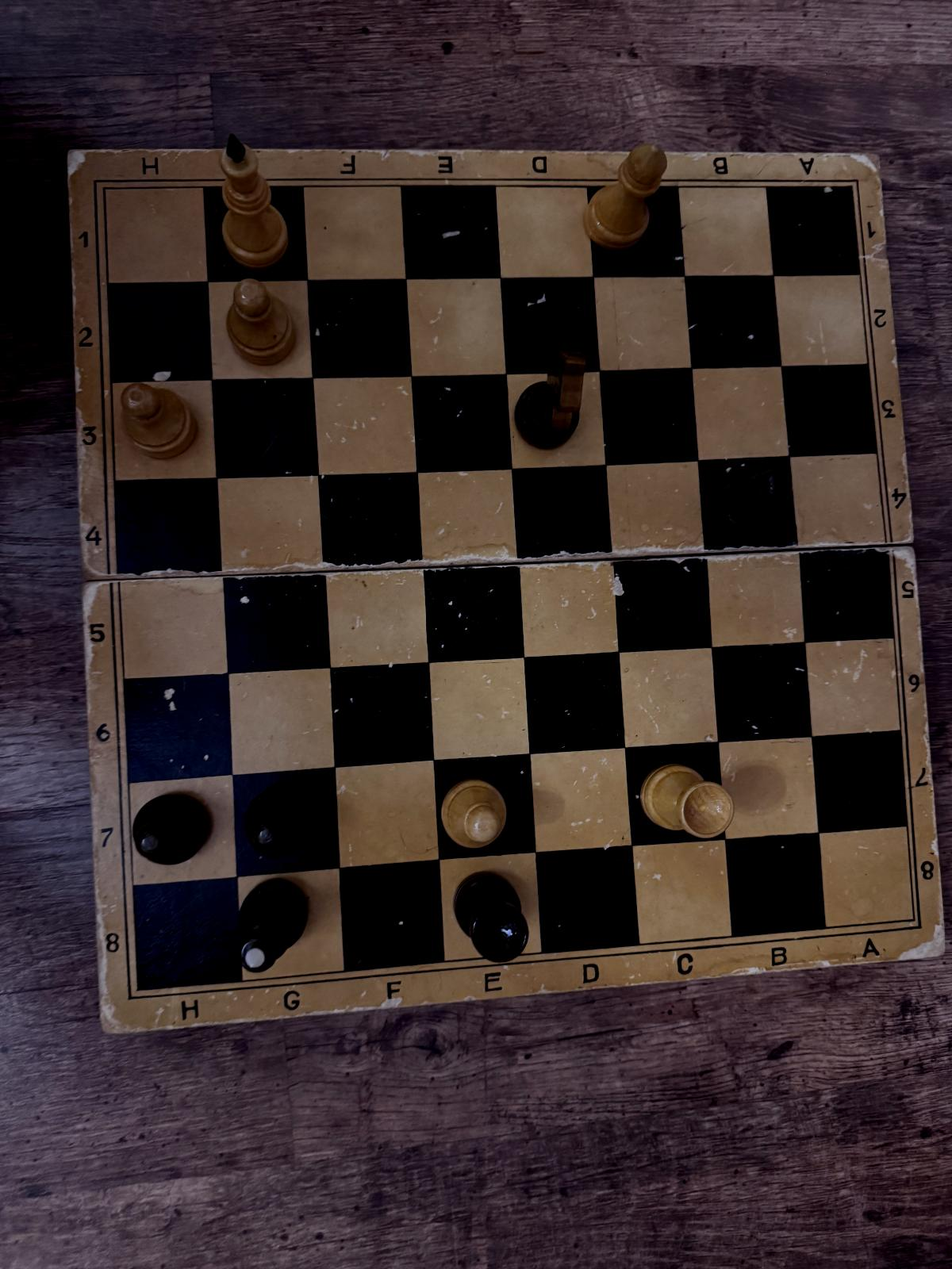Chess-Board: (104, 186, 914, 989)
